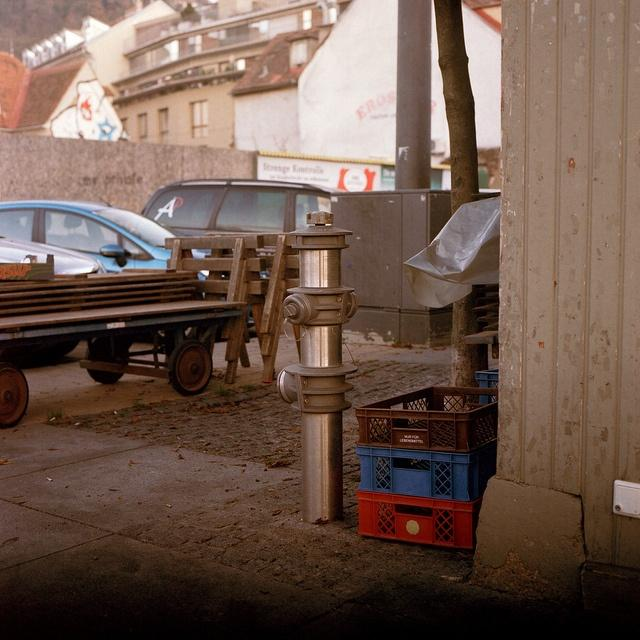car: (0, 198, 207, 282), (145, 183, 335, 266), (0, 231, 107, 278)
fire_hydrant: (274, 207, 359, 526)
